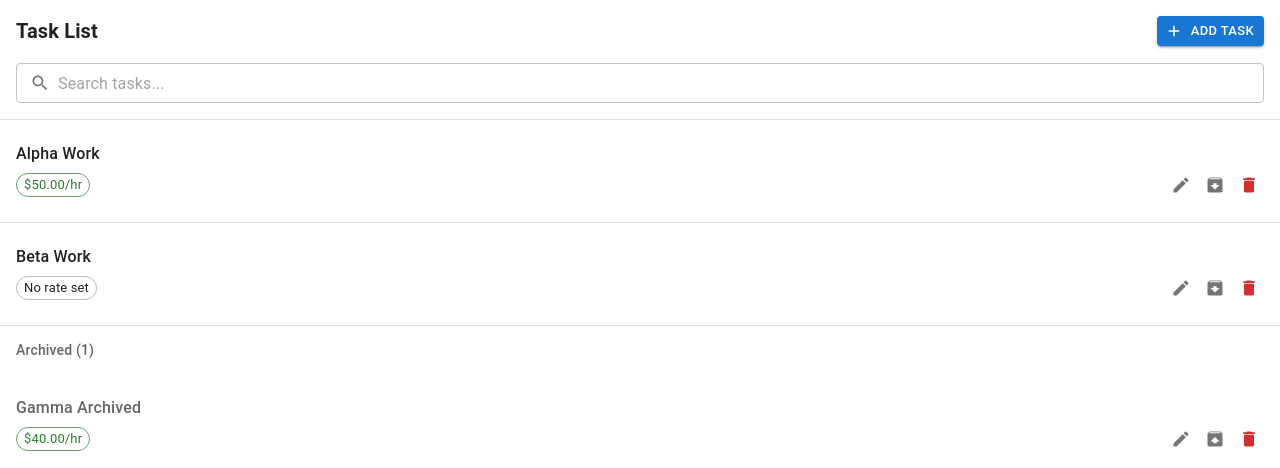
Test: TaskListPane › search spans both active and archived sections
The width and height of the screenshot is (1280, 468).
In the field labelled "Search tasks": (661, 83) [58,63,1264,103], type "gamma"
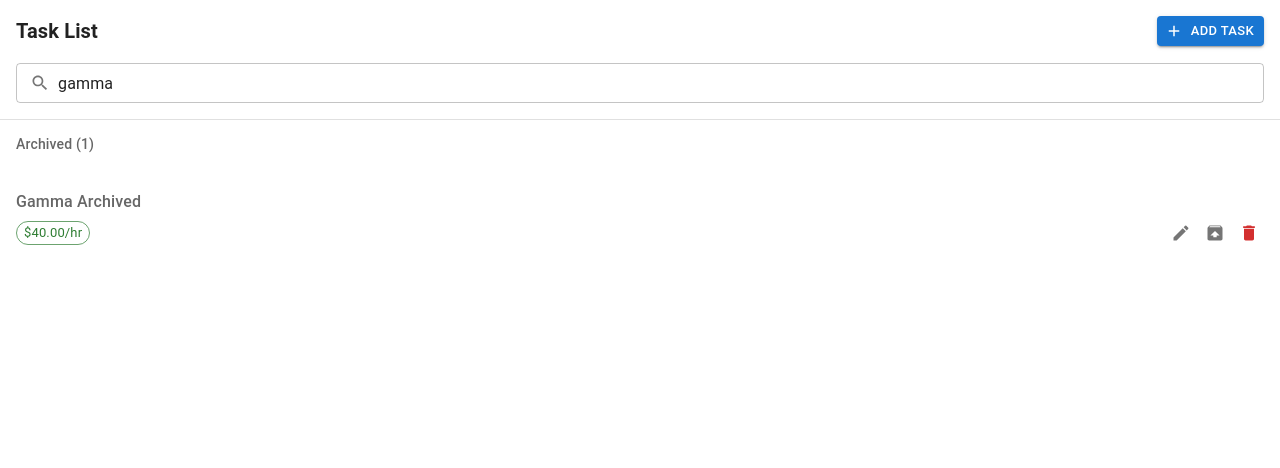
Expected: the list item "Archived (1)" is shown, [16,136,94,152]
Expected: the button "Alpha Work" is gone
Expected: the button "Beta Work" is gone
